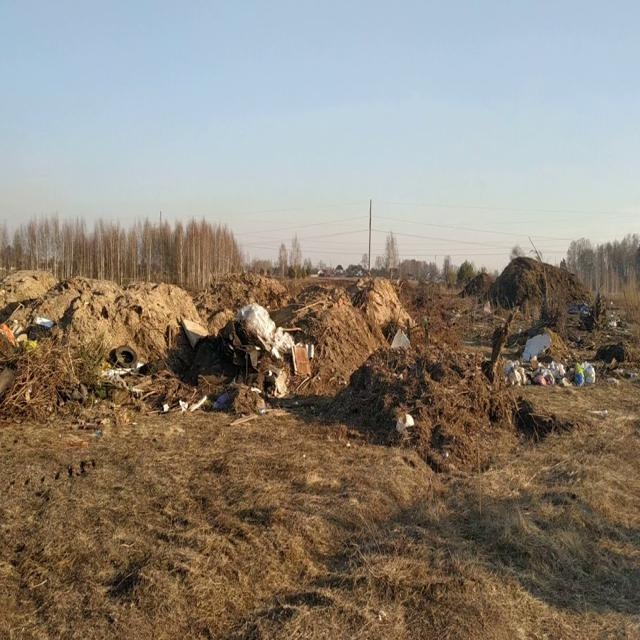lixeira: (228, 303, 322, 383), (497, 356, 597, 396)
